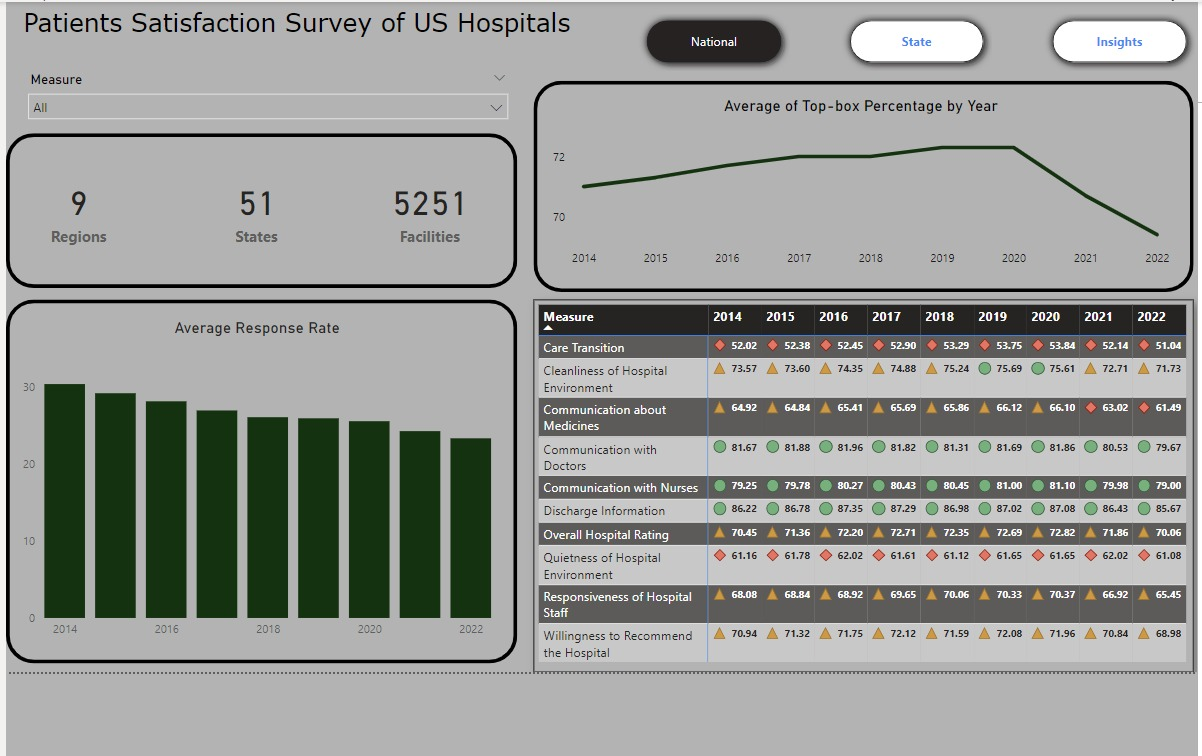

The dashboard page shown, as its layout file describes it:
{"tool":"powerbi","page":{"name":"National","canvas":[1280,720],"ordinal":0},"visuals":[{"type":"shape","box":[567,84.7,709.5,227.1],"z":0},{"type":"shape","box":[0,319.8,549.6,391],"z":1000},{"type":"lineChart","fields":{"Category":["reports.End Date.Variation.Date Hierarchy.Year"],"Y":["Avg(national_results.Top-box Percentage)"]},"box":[583.2,100.8,671.8,192.1],"z":2000},{"type":"slicer","fields":{"Values":["measures (2).Measure"]},"box":[13.4,69.9,536.1,60.5],"z":3000},{"type":"shape","box":[0,141.1,549.6,166.6],"z":4000},{"type":"clusteredColumnChart","title":"Average Response Rate","fields":{"Category":["reports.End Year"],"Y":["Avg(responses.Response Rate (%))"]},"box":[13.4,340,513.3,352],"z":5000},{"type":"card","fields":{"Values":["Count(state_results.State)"]},"box":[201.6,178.7,135.7,90],"z":6000},{"type":"card","fields":{"Values":["Count(states.Region)"]},"box":[10.7,178.7,134.4,90],"z":7000},{"type":"card","fields":{"Values":["Count(responses.Facility ID)"]},"box":[388.3,178.7,134.4,90],"z":8000},{"type":"textbox","box":[13.4,0,610,60.5],"z":9000},{"type":"pageNavigator","box":[679.9,10.7,600.6,63.2],"z":10000},{"type":"pivotTable","fields":{"Rows":["measures (2).Measure"],"Values":["Avg(state_results.Top-box Percentage)"],"Columns":["reports.End Date.Variation.Date Hierarchy.Year"]},"box":[567,319.8,709.5,400.4],"z":11000}]}

Visuals, with their boxes on the page's 1280x720 design canvas (x1, y1, x2, y2). These are canvas units, not pixel positions in the 1202x756 screenshot, which may show the page scaled, cropped or inside an application window:
shape: l=567, t=85, r=1276, b=312
shape: l=0, t=320, r=550, b=711
lineChart - reports.End Date.Variation.Date Hierarchy.Year x Avg(national_results.Top-box Percentage): l=583, t=101, r=1255, b=293
slicer - measures (2).Measure: l=13, t=70, r=550, b=130
shape: l=0, t=141, r=550, b=308
"Average Response Rate" clusteredColumnChart: l=13, t=340, r=527, b=692
card - Count(state_results.State): l=202, t=179, r=337, b=269
card - Count(states.Region): l=11, t=179, r=145, b=269
card - Count(responses.Facility ID): l=388, t=179, r=523, b=269
textbox: l=13, t=0, r=623, b=60
pageNavigator: l=680, t=11, r=1280, b=74
pivotTable - measures (2).Measure x Avg(state_results.Top-box Percentage): l=567, t=320, r=1276, b=720
